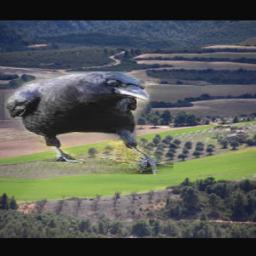Crow: (6, 72, 174, 175)
